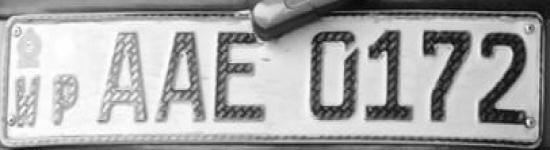0: (307, 24, 362, 124)
1: (364, 25, 417, 125)
2: (477, 26, 535, 132)
7: (420, 28, 474, 125)
A: (90, 27, 152, 132), (154, 25, 211, 135)
E: (211, 29, 269, 126)
P: (50, 71, 84, 129)
W: (11, 74, 45, 134)
